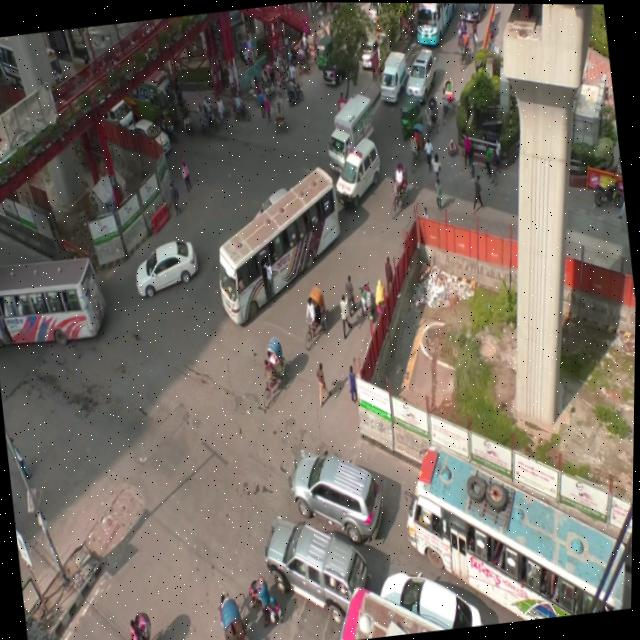cng: (397, 91, 426, 144), (312, 35, 340, 71)
rikshaw: (255, 329, 293, 404), (299, 279, 333, 351), (213, 586, 251, 640), (386, 155, 418, 216), (115, 604, 163, 640), (408, 122, 431, 168), (437, 74, 459, 121), (422, 93, 443, 140), (454, 27, 474, 66), (294, 43, 313, 77), (248, 73, 266, 108), (271, 92, 287, 128), (260, 65, 276, 97)
